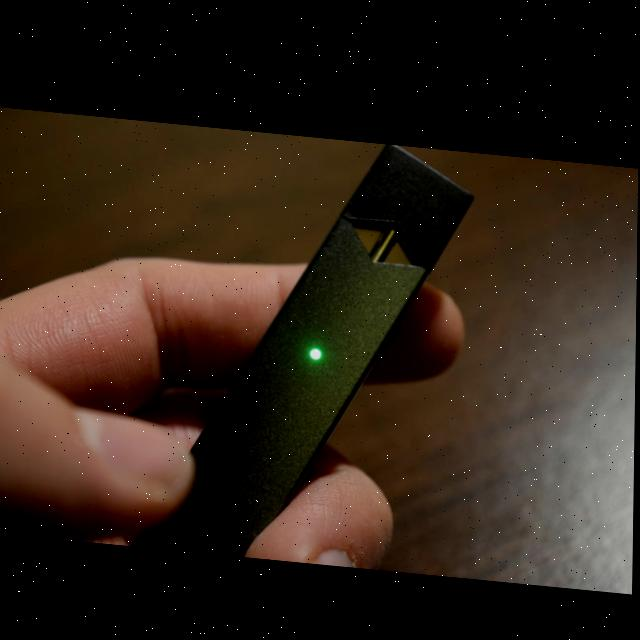vape: (129, 117, 478, 569)
